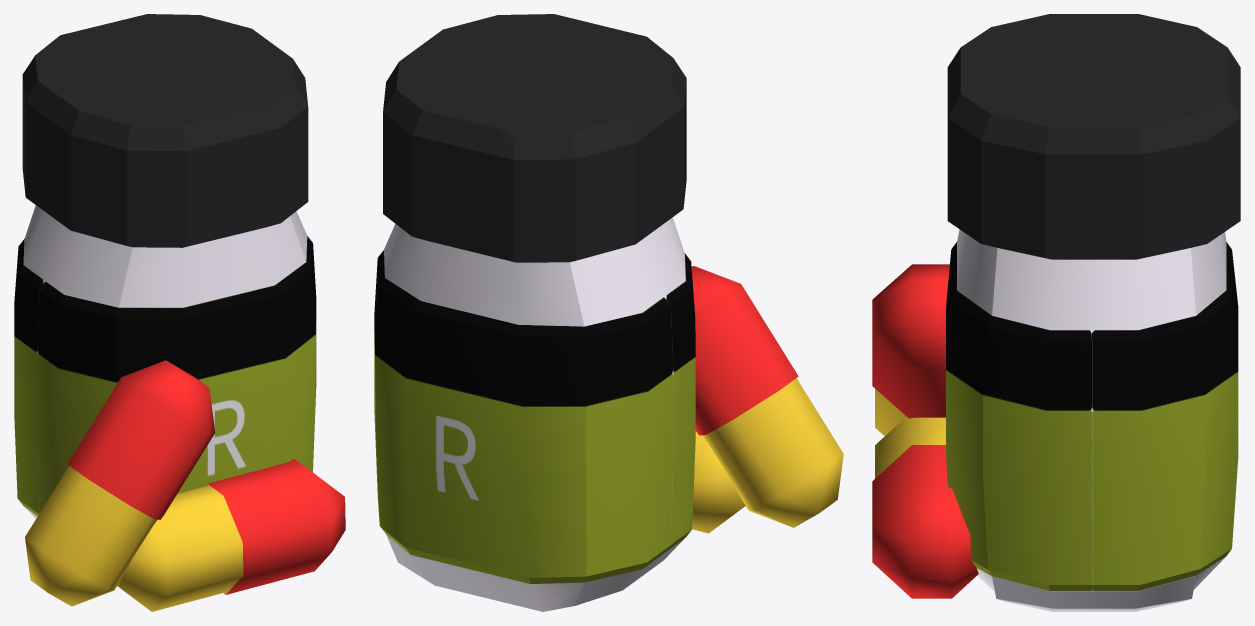
File: rispe_texturizado.fbx
3 views of the same model, side by side, from view 1: azimuth 30°, elevation 25°; view 2: azimuth 150°, elevation 25°; view 3: azimuth 270°, elevation 25° (orthographic). The views are drawn at different scales.
Visible parts, largest first — view 1: polySurface2, polySurface1, pCube1, pCube1.001; view 2: polySurface2, polySurface1, pCube1, pCube1.001; view 3: polySurface2, polySurface1, pCube1.001, pCube1.
Part boxes in pixels (bbox=[...]): polySurface2: bbox=[22, 14, 308, 518]; polySurface1: bbox=[14, 236, 316, 516]; pCube1: bbox=[25, 360, 215, 606]; pCube1.001: bbox=[117, 459, 345, 611]; polySurface2: bbox=[383, 14, 686, 611]; polySurface1: bbox=[374, 250, 695, 583]; pCube1: bbox=[691, 266, 843, 527]; pCube1.001: bbox=[692, 431, 745, 533]; polySurface2: bbox=[947, 14, 1240, 611]; polySurface1: bbox=[946, 242, 1238, 590]; pCube1.001: bbox=[872, 417, 978, 598]; pCube1: bbox=[872, 264, 949, 435].
Bounding box in the file's own units: 1.67 × 2.21 × 1.47.
Materials: 2 (2 with a texture image).
